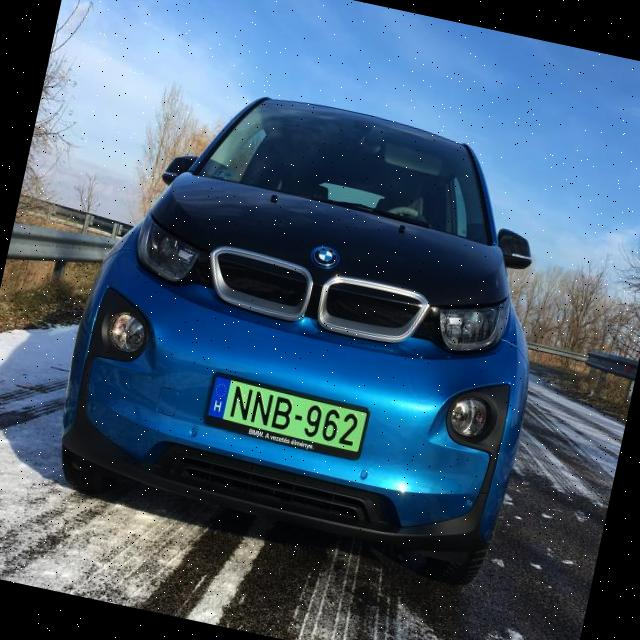licence: (200, 372, 372, 461)
